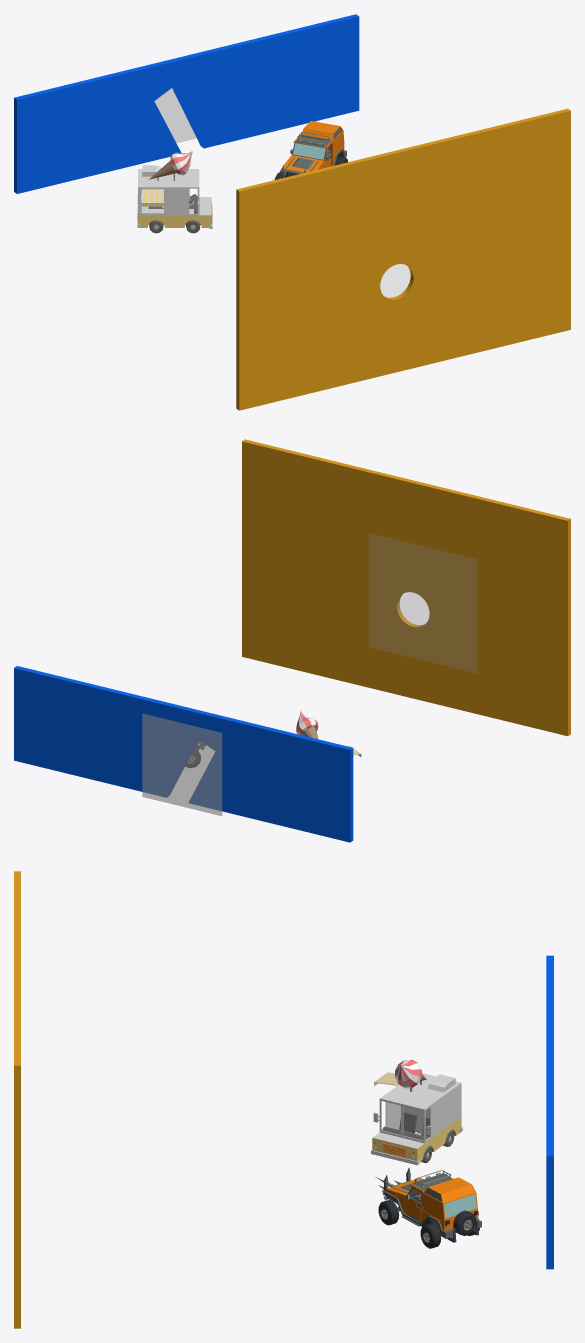
Rendered from puzzle.glb.
3 views of the same model, one above another, from view 1: azimuth 30°, elevation 25°; view 2: azimuth 150°, elevation 25°; view 3: azimuth 270°, elevation 25° (orthographic). The views are drawn at different scales.
Visible parts, largest first — view 1: Cube.005, Cube, Ice Cream Truck, car, Plane.001, Plane; view 2: Cube.005, Cube, Plane, Plane.001; view 3: Ice Cream Truck, car, Cube.005, Cube.
Boxes of the visible parts, box(x1,y1,x2,y2) form: Cube.005: box(236, 108, 570, 410); Cube: box(14, 14, 359, 193); Ice Cream Truck: box(137, 151, 212, 233); car: box(272, 121, 347, 179); Plane.001: box(154, 88, 196, 142); Plane: box(380, 264, 410, 297); Cube.005: box(242, 439, 570, 736); Cube: box(14, 666, 353, 842); Plane: box(369, 533, 477, 672); Plane.001: box(142, 713, 222, 815); Ice Cream Truck: box(371, 1059, 462, 1165); car: box(375, 1167, 481, 1248); Cube.005: box(14, 871, 20, 1328); Cube: box(546, 955, 553, 1269).
Size of the model in its own units: 6.16 by 3.77 by 7.24.
Materials: 7 (2 with a texture image).
